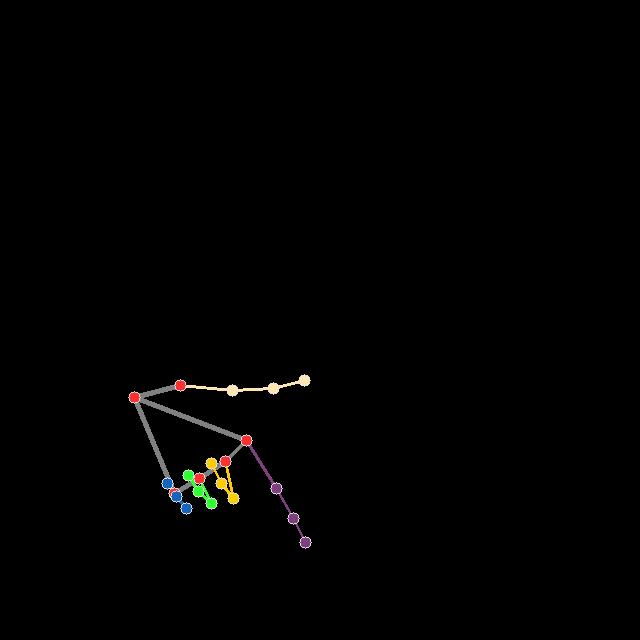gun: (126, 373, 320, 550)
